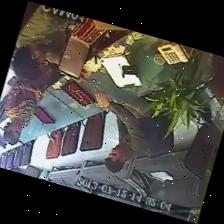person: (96, 91, 159, 172), (13, 8, 72, 80), (4, 65, 52, 144)
